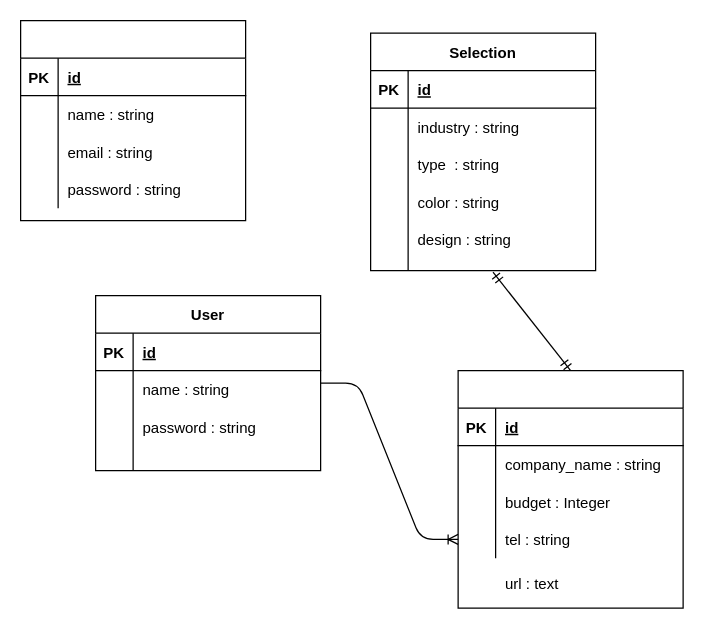
Image size: 704x629. Some labels were removed from this diagram. The shapes that lost their labels are listed below. From the top down, each one's box as (x1, y1, x2, y2) in pixels, then its label:
(19, 19, 246, 221): New_Registration
(457, 369, 683, 608): Client
